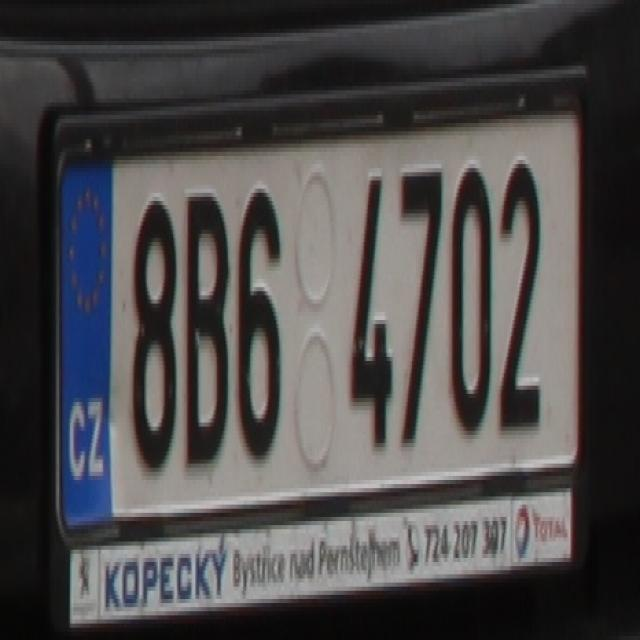0: (449, 164, 492, 431)
2: (502, 152, 542, 422)
4: (347, 164, 393, 435)
6: (232, 181, 282, 464)
7: (397, 164, 439, 447)
8: (129, 189, 176, 455)
B: (181, 192, 227, 463)
